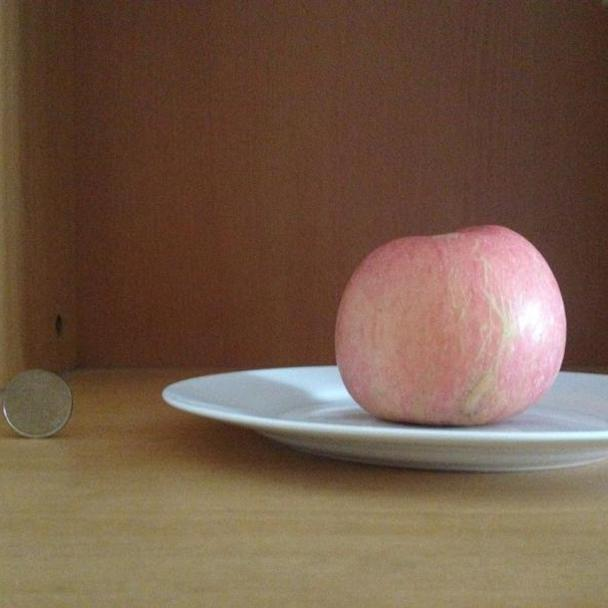apple: (331, 220, 569, 430)
